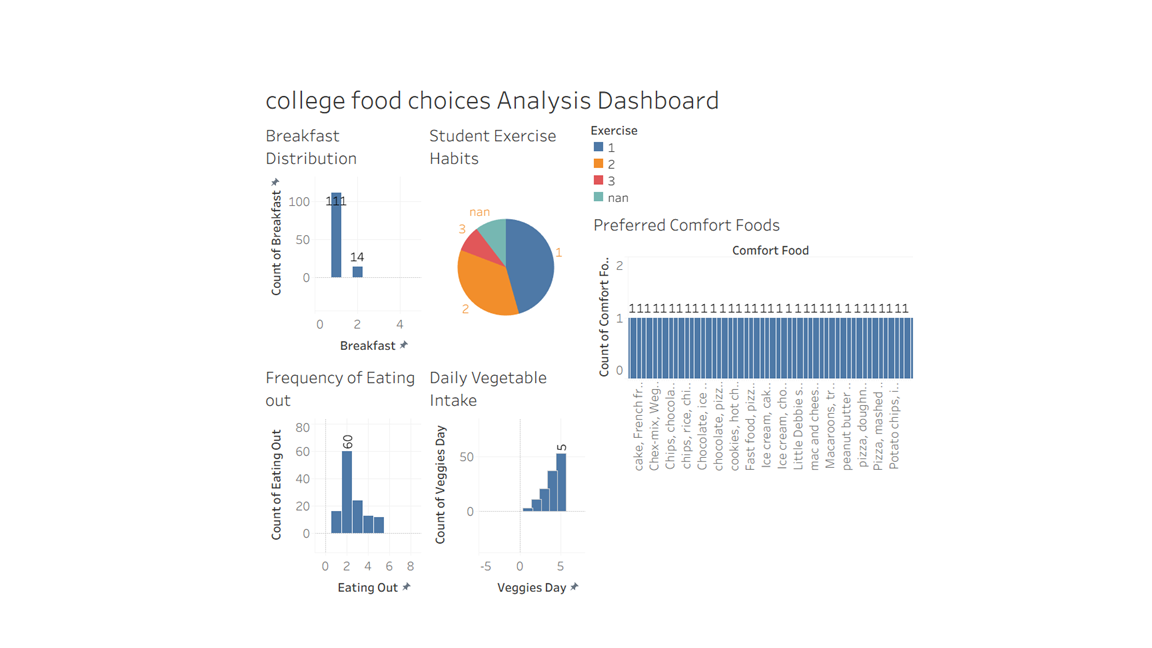

Layout of this report page (visuals, bound fields, positions):
{"tool":"tableau","page":{"name":"Dashboard 1","canvas":[1000,800],"ordinal":0},"visuals":[{"type":"title","box":[8,8,984,58]},{"type":"worksheet","title":"Sheet 2","mark":"Bar","rows":["breakfast"],"cols":["breakfast"],"box":[8,66,246,363]},{"type":"worksheet","title":"Sheet 1","mark":"Pie","box":[254,66,246,363]},{"type":"legend","title":"Sheet 1","param":"[federated.0mzjnu40wva836101evcu1crgfrp].[none:exercise:nk]","box":[500,66,492,134]},{"type":"worksheet","title":"Sheet 5","mark":"Bar","rows":["comfort_food"],"cols":["comfort_food"],"box":[500,200,492,400]},{"type":"worksheet","title":"Sheet 3","mark":"Bar","rows":["eating_out"],"cols":["eating_out"],"box":[8,429,246,363]},{"type":"worksheet","title":"Sheet 4","mark":"Bar","rows":["veggies_day"],"cols":["veggies_day"],"box":[254,429,246,363]}]}

Visuals, with their boxes on the page's 1000x800 design canvas (x1, y1, x2, y2). These are canvas units, not pixel positions in the 1152x648 screenshot, which may show the page scaled, cropped or inside an application window:
title: box=[8, 8, 992, 66]
"Sheet 2" worksheet (Bar marks): box=[8, 66, 254, 429]
"Sheet 1" worksheet (Pie marks): box=[254, 66, 500, 429]
"Sheet 1" legend: box=[500, 66, 992, 200]
"Sheet 5" worksheet (Bar marks): box=[500, 200, 992, 600]
"Sheet 3" worksheet (Bar marks): box=[8, 429, 254, 792]
"Sheet 4" worksheet (Bar marks): box=[254, 429, 500, 792]
